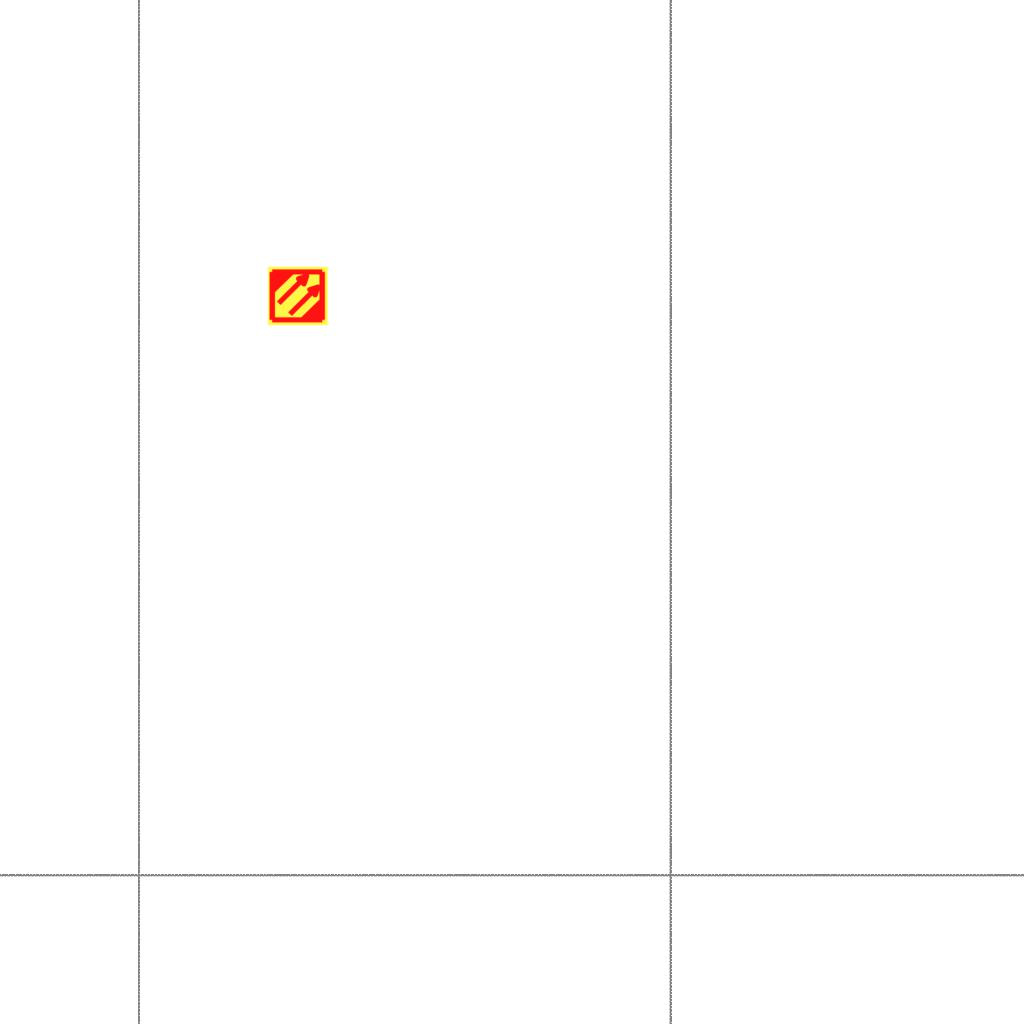ASR_Ansaugrauchmelder: (267, 265, 329, 327)
